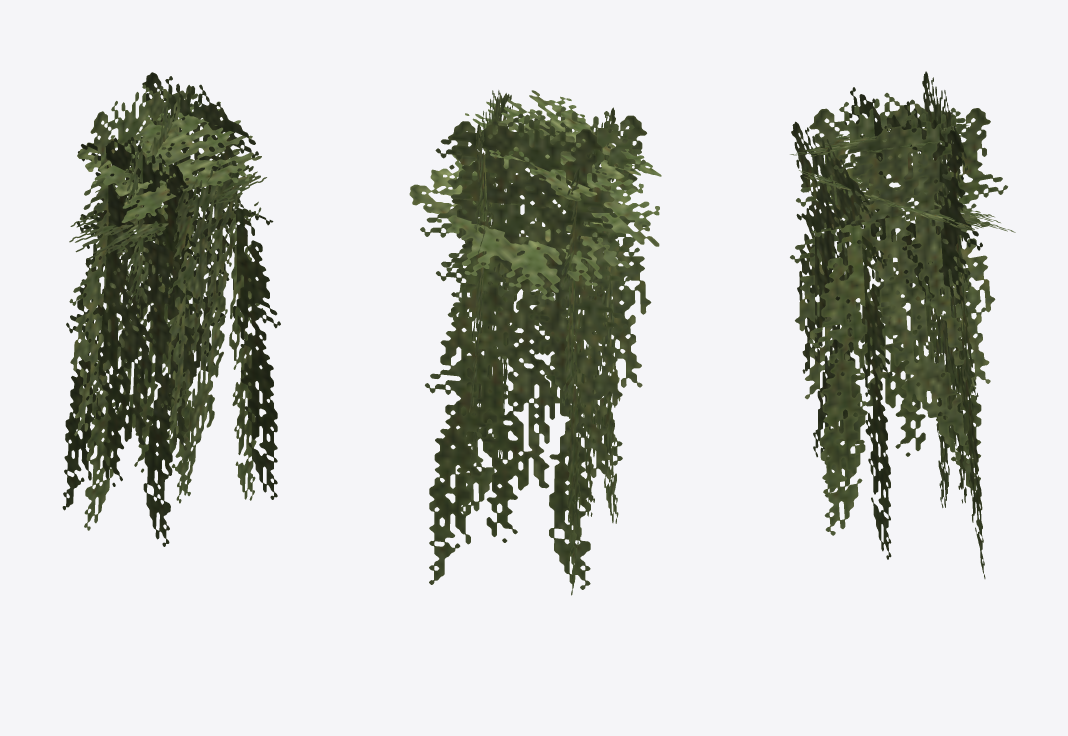
Rendered from willow_leaves_3.obj.
The picture shows the model from 3 angles, left to right: view 1: azimuth 30°, elevation 25°; view 2: azimuth 150°, elevation 25°; view 3: azimuth 270°, elevation 25°; orthographic projection. The views are drawn at different scales.
Parts seen in each view (by area): view 1: north, south, west, east, top, bottom; view 2: east, south, bottom, west, north, top; view 3: south, north, west, east, bottom, top.
Part boxes in pixels (box(x1,y1,x2,y2)): north: box(62, 137, 202, 546); south: box(125, 72, 280, 499); west: box(165, 161, 262, 503); east: box(69, 84, 201, 530); top: box(77, 101, 261, 222); bottom: box(69, 144, 266, 259); east: box(425, 113, 628, 589); south: box(420, 90, 645, 480); bottom: box(409, 109, 659, 300); west: box(447, 106, 651, 516); north: box(560, 107, 620, 595); top: box(465, 90, 661, 201); south: box(808, 87, 1007, 535); north: box(790, 93, 985, 497); west: box(791, 121, 892, 559); east: box(918, 71, 985, 578); bottom: box(799, 165, 1015, 232); top: box(790, 124, 968, 156).
Bounding box in the file's own units: 1.85 × 4.13 × 1.84.
